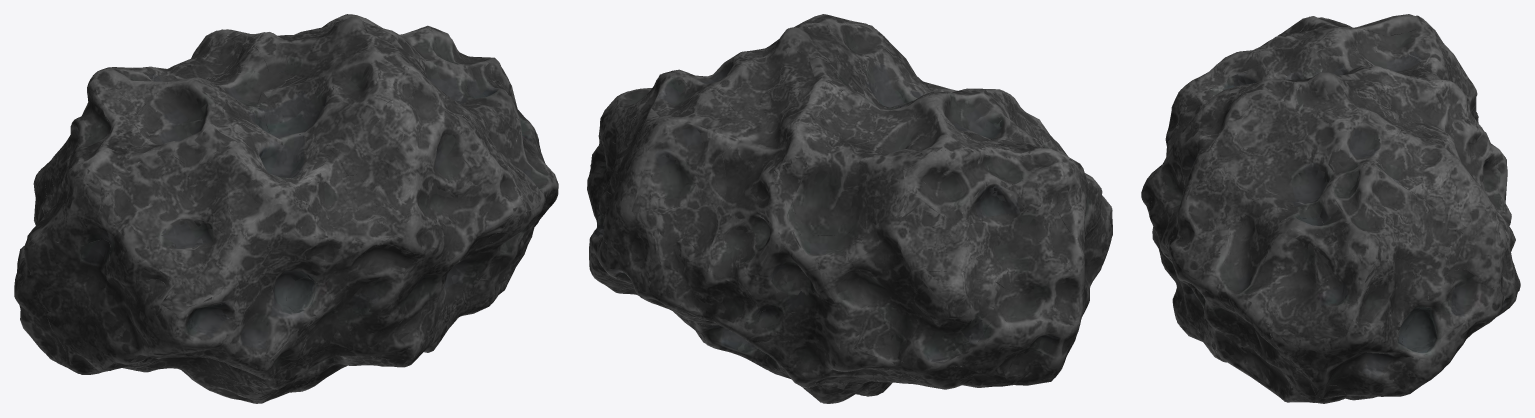
File: asteroid_exploding.glb
3 renders of one model, left to right at view 1: azimuth 30°, elevation 25°; view 2: azimuth 150°, elevation 25°; view 3: azimuth 270°, elevation 25°, orthographic. The views are drawn at different scales.
Parts seen in each view (by area): view 1: Asteroid_1a_LOD0, Asteroid_1a_LOD2_cell.022, Asteroid_1a_LOD2_cell.049, Asteroid_1a_LOD2_cell.043, Asteroid_1a_LOD2_cell.044, Asteroid_1a_LOD2_cell.055, Asteroid_1a_LOD2_cell.026, Asteroid_1a_LOD2_cell.071, Asteroid_1a_LOD2_cell.012, Asteroid_1a_LOD2_cell.013, Asteroid_1a_LOD2_cell.024, Asteroid_1a_LOD2_cell.027 (+14 smaller); view 2: Asteroid_1a_LOD0, Asteroid_1a_LOD2_cell.008, Asteroid_1a_LOD2_cell.035, Asteroid_1a_LOD2_cell.004, Asteroid_1a_LOD2_cell.033, Asteroid_1a_LOD2_cell.021, Asteroid_1a_LOD2_cell.018, Asteroid_1a_LOD2_cell.073, Asteroid_1a_LOD2_cell.050, Asteroid_1a_LOD2_cell.017, Asteroid_1a_LOD2_cell.079, Asteroid_1a_LOD2_cell.013 (+16 smaller); view 3: Asteroid_1a_LOD0, Asteroid_1a_LOD2_cell.052, Asteroid_1a_LOD2_cell.013, Asteroid_1a_LOD2_cell.022, Asteroid_1a_LOD2_cell.020, Asteroid_1a_LOD2_cell.015, Asteroid_1a_LOD2_cell.030, Asteroid_1a_LOD2_cell.050, Asteroid_1a_LOD2_cell.079, Asteroid_1a_LOD2_cell.057, Asteroid_1a_LOD2_cell.009, Asteroid_1a_LOD2_cell.074 (+12 smaller).
Part boxes in pixels (left/top/right/bottom): Asteroid_1a_LOD0: left=14, top=14, right=558, bottom=403; Asteroid_1a_LOD2_cell.022: left=357, top=91, right=519, bottom=260; Asteroid_1a_LOD2_cell.049: left=172, top=182, right=321, bottom=370; Asteroid_1a_LOD2_cell.043: left=29, top=232, right=187, bottom=371; Asteroid_1a_LOD2_cell.044: left=123, top=80, right=347, bottom=182; Asteroid_1a_LOD2_cell.055: left=127, top=150, right=256, bottom=295; Asteroid_1a_LOD2_cell.026: left=348, top=203, right=459, bottom=359; Asteroid_1a_LOD2_cell.071: left=40, top=145, right=163, bottom=281; Asteroid_1a_LOD2_cell.012: left=257, top=56, right=379, bottom=175; Asteroid_1a_LOD2_cell.013: left=320, top=17, right=497, bottom=111; Asteroid_1a_LOD2_cell.024: left=301, top=175, right=389, bottom=283; Asteroid_1a_LOD2_cell.027: left=266, top=274, right=353, bottom=383; Asteroid_1a_LOD0: left=587, top=14, right=1112, bottom=403; Asteroid_1a_LOD2_cell.008: left=913, top=150, right=1082, bottom=287; Asteroid_1a_LOD2_cell.035: left=850, top=166, right=1012, bottom=306; Asteroid_1a_LOD2_cell.004: left=756, top=232, right=864, bottom=347; Asteroid_1a_LOD2_cell.033: left=708, top=146, right=803, bottom=289; Asteroid_1a_LOD2_cell.021: left=865, top=271, right=1011, bottom=368; Asteroid_1a_LOD2_cell.018: left=629, top=155, right=726, bottom=288; Asteroid_1a_LOD2_cell.073: left=741, top=128, right=883, bottom=235; Asteroid_1a_LOD2_cell.050: left=807, top=89, right=937, bottom=178; Asteroid_1a_LOD2_cell.017: left=979, top=274, right=1083, bottom=385; Asteroid_1a_LOD2_cell.079: left=620, top=74, right=741, bottom=181; Asteroid_1a_LOD2_cell.013: left=677, top=14, right=875, bottom=113; Asteroid_1a_LOD0: left=1141, top=15, right=1520, bottom=403; Asteroid_1a_LOD2_cell.052: left=1269, top=217, right=1435, bottom=397; Asteroid_1a_LOD2_cell.013: left=1216, top=72, right=1413, bottom=219; Asteroid_1a_LOD2_cell.022: left=1146, top=95, right=1268, bottom=254; Asteroid_1a_LOD2_cell.020: left=1371, top=269, right=1496, bottom=396; Asteroid_1a_LOD2_cell.015: left=1375, top=173, right=1469, bottom=276; Asteroid_1a_LOD2_cell.030: left=1170, top=223, right=1267, bottom=321; Asteroid_1a_LOD2_cell.050: left=1326, top=28, right=1447, bottom=79; Asteroid_1a_LOD2_cell.079: left=1374, top=131, right=1491, bottom=235; Asteroid_1a_LOD2_cell.057: left=1238, top=219, right=1346, bottom=402; Asteroid_1a_LOD2_cell.009: left=1285, top=164, right=1382, bottom=261; Asteroid_1a_LOD2_cell.074: left=1339, top=66, right=1442, bottom=131.
Size of what is drawn, in the model's own units: 3.7 by 2.43 by 2.53.
1 material, 1 textured.
